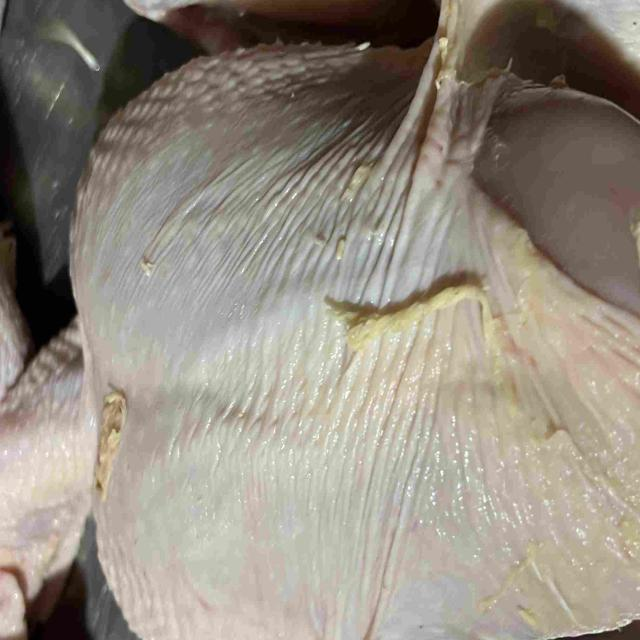breast: (69, 45, 640, 640)
neck: (0, 321, 100, 600)
wing: (126, 0, 434, 53)
